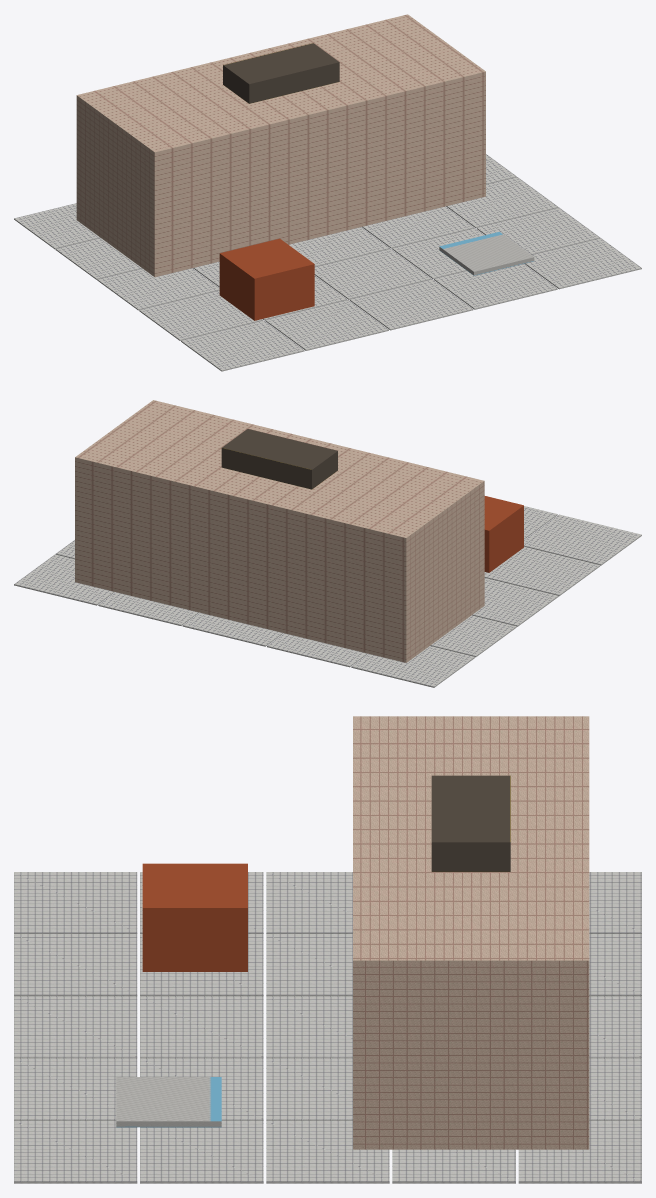
The picture shows the model from 3 angles, top to bottom: view 1: azimuth 30°, elevation 25°; view 2: azimuth 150°, elevation 25°; view 3: azimuth 270°, elevation 25°; orthographic projection. The views are drawn at different scales.
Parts seen in each view (by area): view 1: 28185_B44_Incheon_City_Museum; view 2: 28185_B44_Incheon_City_Museum; view 3: 28185_B44_Incheon_City_Museum.
Part boxes in pixels (bbox=[...]): 28185_B44_Incheon_City_Museum: bbox=[14, 14, 641, 371]; 28185_B44_Incheon_City_Museum: bbox=[14, 400, 641, 687]; 28185_B44_Incheon_City_Museum: bbox=[14, 716, 641, 1183].
Bounding box in the file's own units: 55.8 × 18.5 × 47.8.
1 material, 1 textured.
